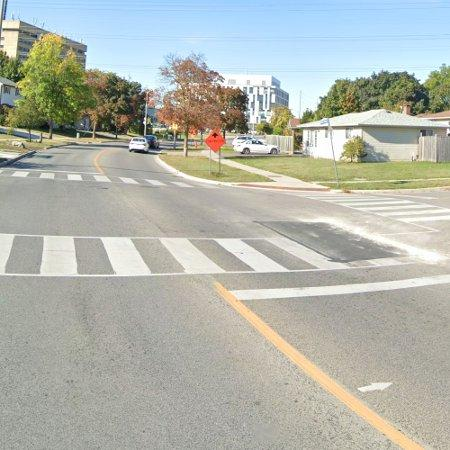crosswalks: (0, 234, 404, 278)
